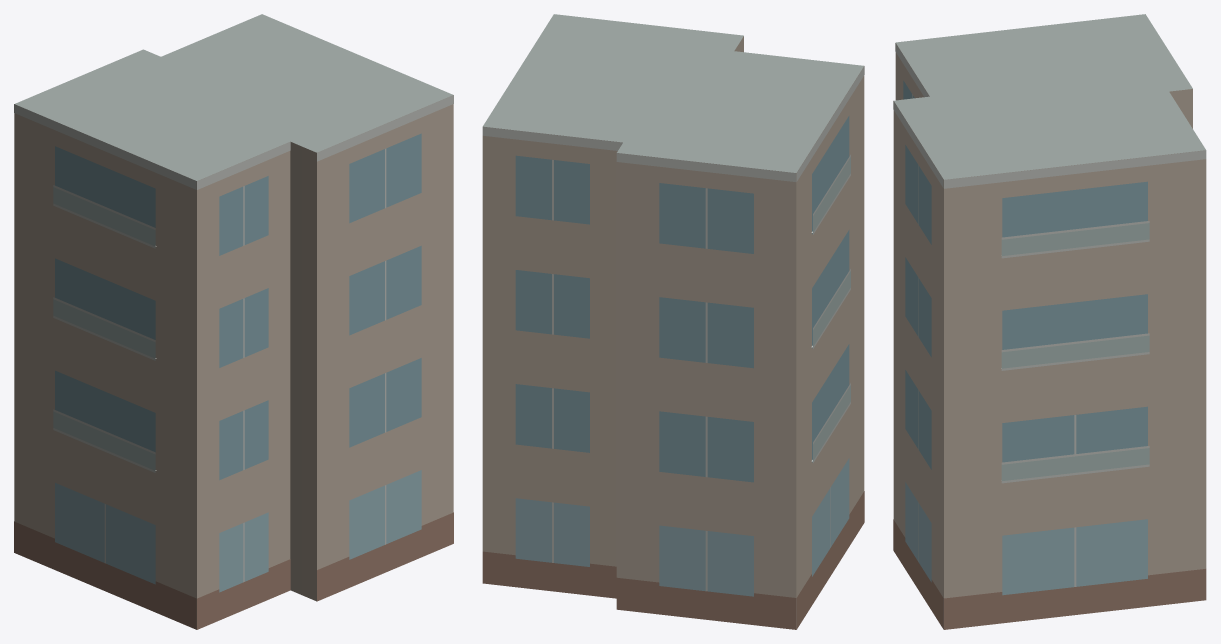
File: residential-188b4850-9871-4226-8637-e715c3430a4d.glb
The picture shows the model from 3 angles, left to right: view 1: azimuth 30°, elevation 25°; view 2: azimuth 150°, elevation 25°; view 3: azimuth 270°, elevation 25°; orthographic projection.
Visible parts, largest first — view 1: residential-188b4850-9871-4226-8637-e715c3430a4d.tmp; view 2: residential-188b4850-9871-4226-8637-e715c3430a4d.tmp; view 3: residential-188b4850-9871-4226-8637-e715c3430a4d.tmp.
Part boxes in pixels (box(x1,y1,x2,y2)): residential-188b4850-9871-4226-8637-e715c3430a4d.tmp: box(14, 14, 453, 629); residential-188b4850-9871-4226-8637-e715c3430a4d.tmp: box(482, 14, 864, 629); residential-188b4850-9871-4226-8637-e715c3430a4d.tmp: box(893, 14, 1206, 629).
Bounding box in the file's own units: 9.65 × 12.2 × 7.69.
